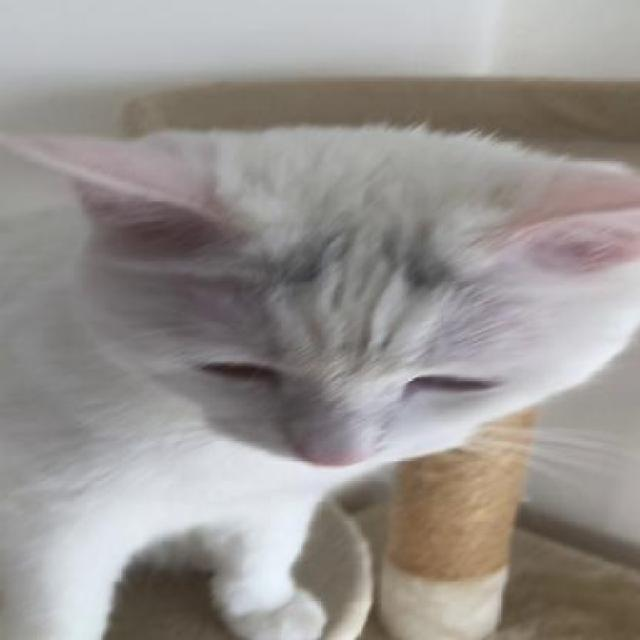cat-face: (9, 122, 640, 460)
